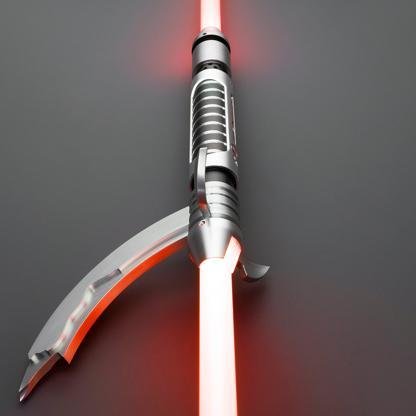sith_lightsaber: (9, 0, 276, 415)
